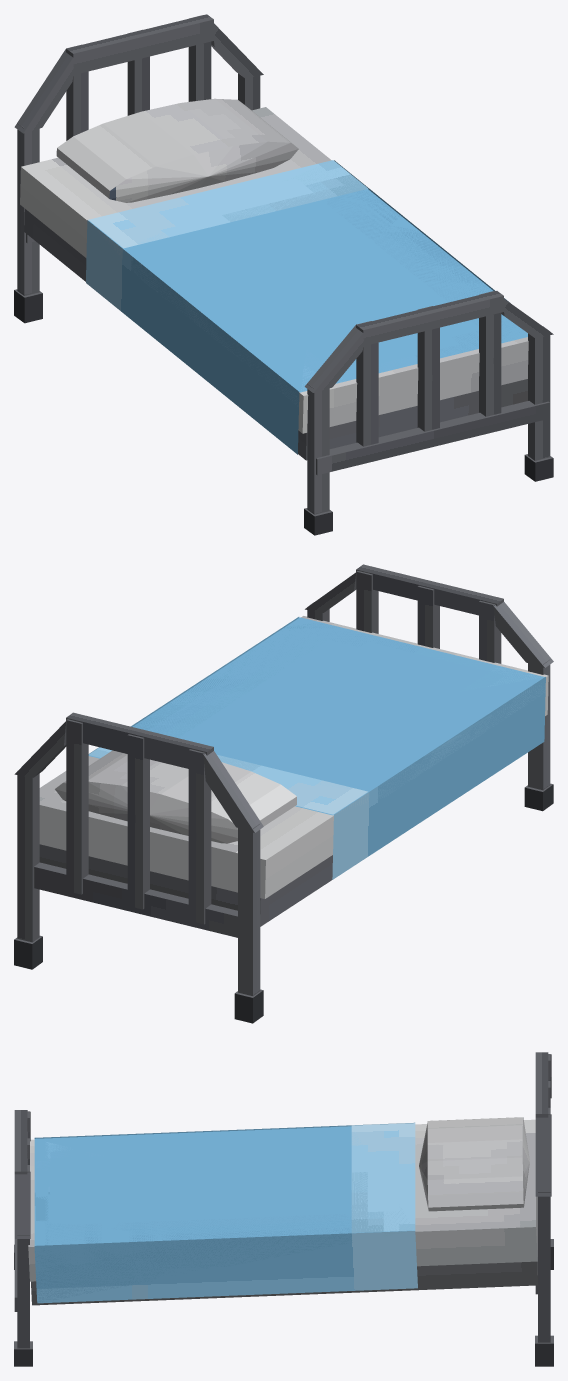
File: hospital_bed.glb
3 renders of one model, top to bottom at view 1: azimuth 30°, elevation 25°; view 2: azimuth 150°, elevation 25°; view 3: azimuth 270°, elevation 25°, orthographic. The views are drawn at different scales.
Parts seen in each view (by area): view 1: cuboid_3, cuboid_2, cylinder_1, cuboid_8, cuboid_0, cuboid_5, cuboid_4, cuboid_7; view 2: cuboid_3, cuboid_8, cuboid_5, cuboid_0, cuboid_2, cylinder_1, cuboid_7, cuboid_4; view 3: cuboid_3, cuboid_6, cylinder_1, cuboid_0, cuboid_4, cuboid_8, cuboid_2, cuboid_7, cuboid_5.
Part boxes in pixels (box(x1,y1,x2,y2)): cuboid_3: box(88, 189, 527, 392); cuboid_2: box(304, 291, 553, 535); cylinder_1: box(56, 98, 298, 202); cuboid_8: box(14, 14, 263, 323); cuboid_0: box(20, 107, 528, 433); cuboid_5: box(86, 220, 299, 454); cuboid_4: box(88, 160, 367, 248); cuboid_7: box(24, 209, 527, 460); cuboid_3: box(88, 617, 544, 815); cuboid_8: box(14, 712, 263, 1023); cuboid_5: box(332, 677, 545, 879); cuboid_0: box(39, 616, 548, 898); cuboid_2: box(305, 564, 553, 811); cylinder_1: box(55, 750, 296, 843); cuboid_7: box(39, 844, 332, 926); cuboid_4: box(89, 747, 367, 814); cuboid_3: box(34, 1126, 414, 1245); cuboid_6: box(34, 1231, 417, 1303); cylinder_1: box(419, 1117, 529, 1211); cuboid_0: box(28, 1119, 537, 1281); cuboid_4: box(351, 1123, 415, 1232); cuboid_8: box(535, 1052, 553, 1366); cuboid_2: box(14, 1110, 32, 1366); cuboid_7: box(31, 1261, 537, 1305); cuboid_5: box(34, 1122, 414, 1138).
Bounding box in the file's own units: 0.5031 × 0.5016 × 1.06.
Materials: 2 (2 with a texture image).
